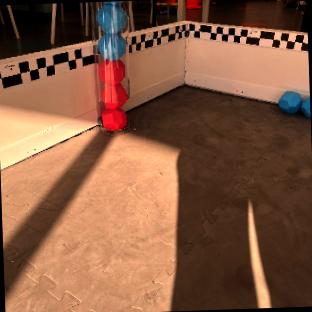Loader: (91, 1, 131, 133)
V5_BLUE: (97, 1, 127, 32), (279, 92, 310, 118), (97, 33, 126, 59)
V5_RED: (99, 58, 128, 130)
